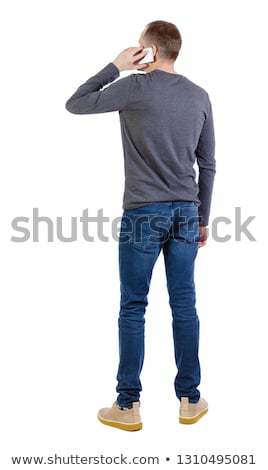phone: (125, 43, 155, 71)
